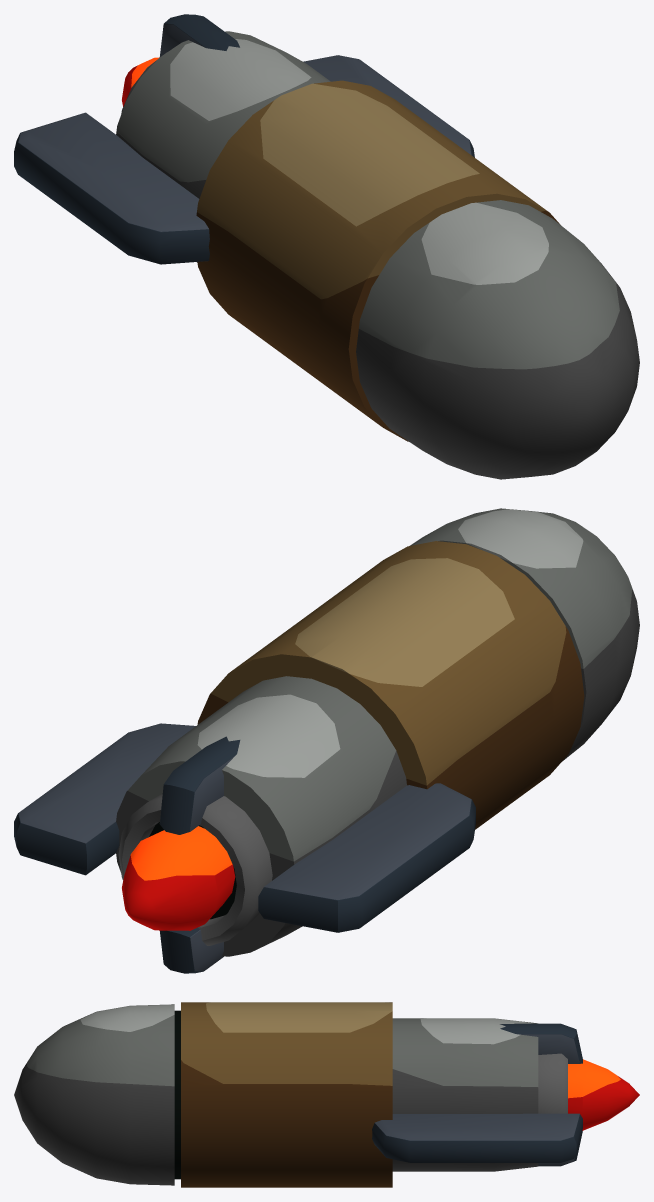
The model's file is slot_rocket_38.glb.
3 renders of one model, top to bottom at view 1: azimuth 30°, elevation 25°; view 2: azimuth 150°, elevation 25°; view 3: azimuth 270°, elevation 25°, orthographic. The views are drawn at different scales.
Parts seen in each view (by area): view 1: slot_rocket_38; view 2: slot_rocket_38; view 3: slot_rocket_38.
Part boxes in pixels (box(x1,y1,x2,y2)): slot_rocket_38: box(14, 14, 639, 479); slot_rocket_38: box(14, 508, 639, 973); slot_rocket_38: box(14, 1002, 639, 1187).
Bounding box in the file's own units: 6.5 × 4.4 × 14.8.
